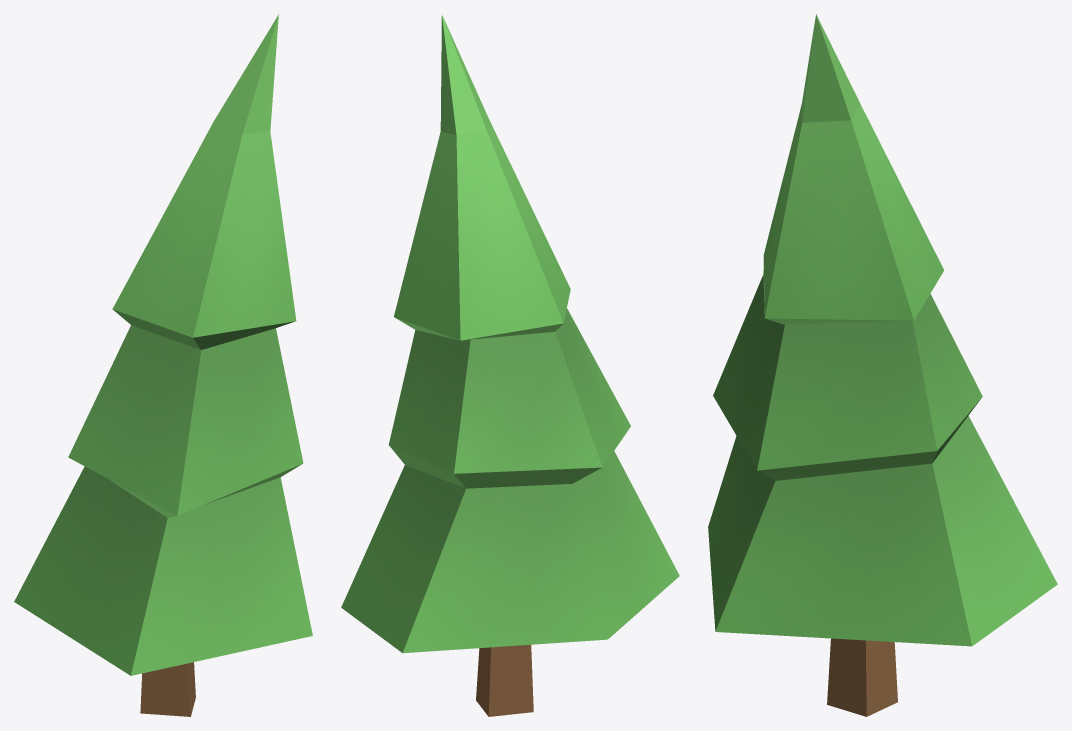
The model's file is Fir_Tree_s_BT_03.fbx.
3 views of the same model, side by side, from view 1: azimuth 30°, elevation 25°; view 2: azimuth 150°, elevation 25°; view 3: azimuth 270°, elevation 25° (orthographic). The views are drawn at different scales.
Parts seen in each view (by area): view 1: Fir_Tree_s_BT_03; view 2: Fir_Tree_s_BT_03; view 3: Fir_Tree_s_BT_03.
Boxes of the visible parts, x1=… form: Fir_Tree_s_BT_03: x1=14, y1=14, x2=312, y2=716; Fir_Tree_s_BT_03: x1=341, y1=15, x2=679, y2=716; Fir_Tree_s_BT_03: x1=708, y1=14, x2=1057, y2=716.
Size of the model in its own units: 95.85 by 250 by 108.
